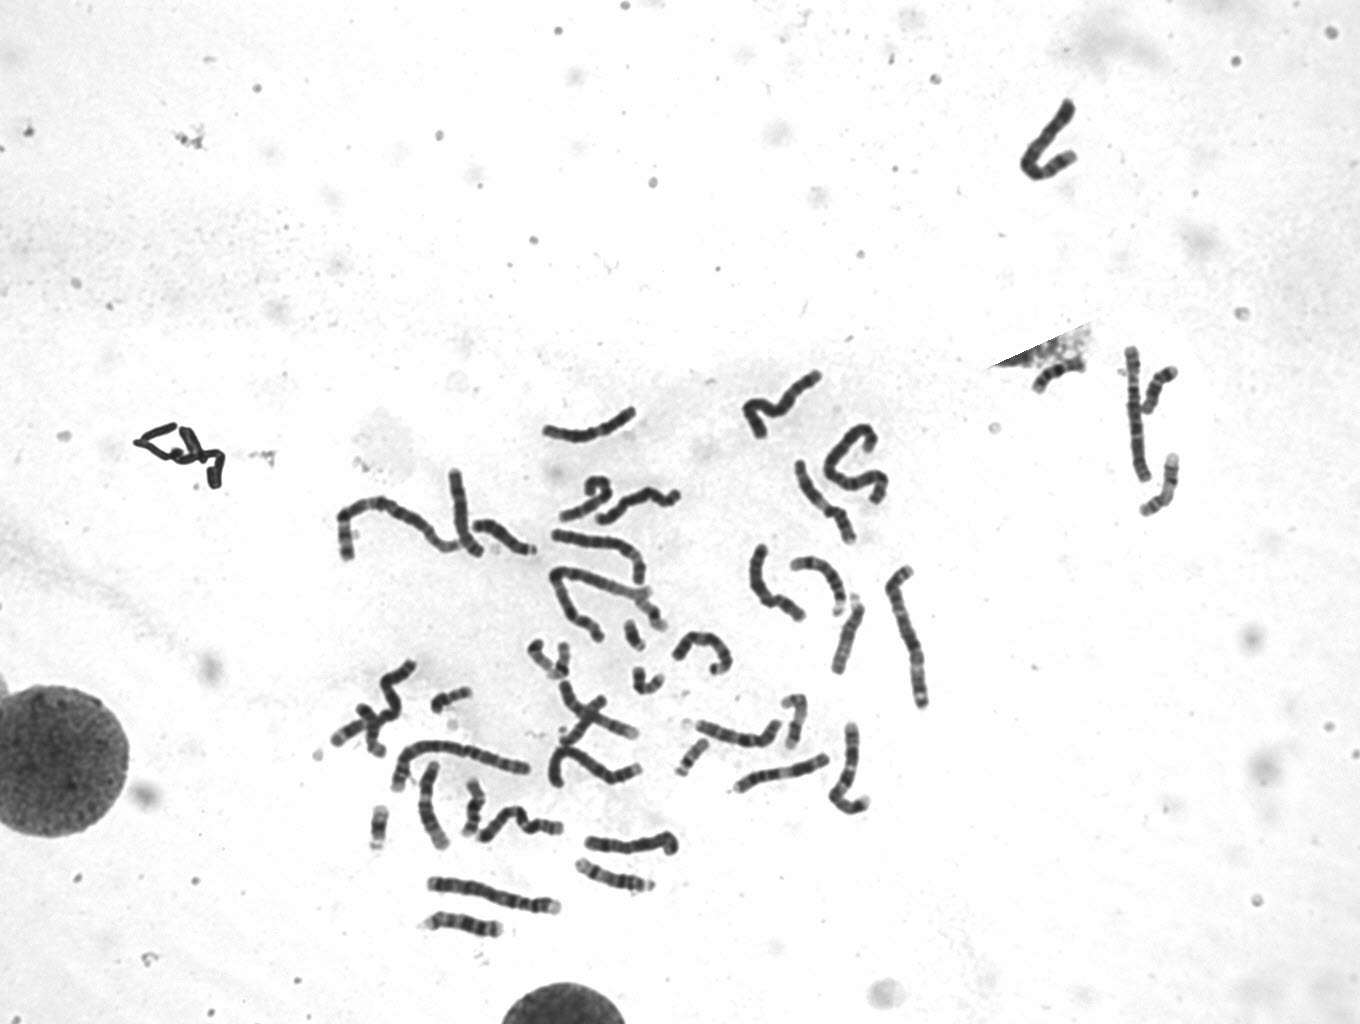chromosomes: (335, 490, 470, 575), (323, 656, 425, 752), (544, 566, 654, 648), (882, 559, 939, 716), (385, 739, 534, 792), (740, 369, 827, 449), (1014, 96, 1084, 190), (791, 456, 862, 547), (821, 422, 896, 509), (552, 527, 650, 589), (745, 539, 812, 630), (423, 876, 564, 918), (558, 680, 643, 743), (726, 749, 838, 796), (830, 719, 878, 819), (544, 745, 646, 791), (444, 464, 489, 561), (788, 551, 849, 623), (539, 401, 641, 444), (590, 485, 687, 529), (476, 803, 567, 850), (1126, 340, 1151, 490), (416, 758, 454, 855), (1137, 449, 1185, 524), (581, 827, 685, 861), (692, 712, 784, 750), (568, 859, 661, 896), (830, 591, 867, 681), (671, 631, 735, 682), (421, 907, 506, 944), (557, 693, 610, 751), (556, 473, 615, 525), (1023, 356, 1093, 398), (472, 518, 542, 559), (1141, 361, 1186, 419), (350, 702, 389, 759), (781, 687, 812, 755), (459, 776, 489, 842), (673, 737, 713, 782), (431, 682, 476, 721), (543, 640, 573, 691), (367, 803, 393, 857), (634, 598, 672, 634), (630, 664, 667, 698), (622, 615, 649, 656), (525, 636, 554, 669)
